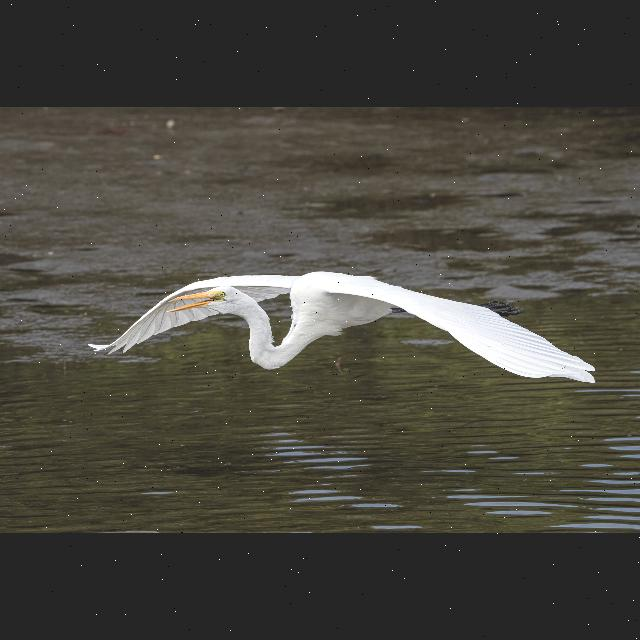egret: (46, 270, 612, 402)
